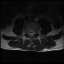CCS_normal: (30, 30, 32, 37)
LFS_normal: (34, 30, 36, 35)
LLS_normal: (32, 30, 34, 36)
RFS_normal: (26, 30, 28, 35)
RLS_normal: (28, 30, 30, 37)
